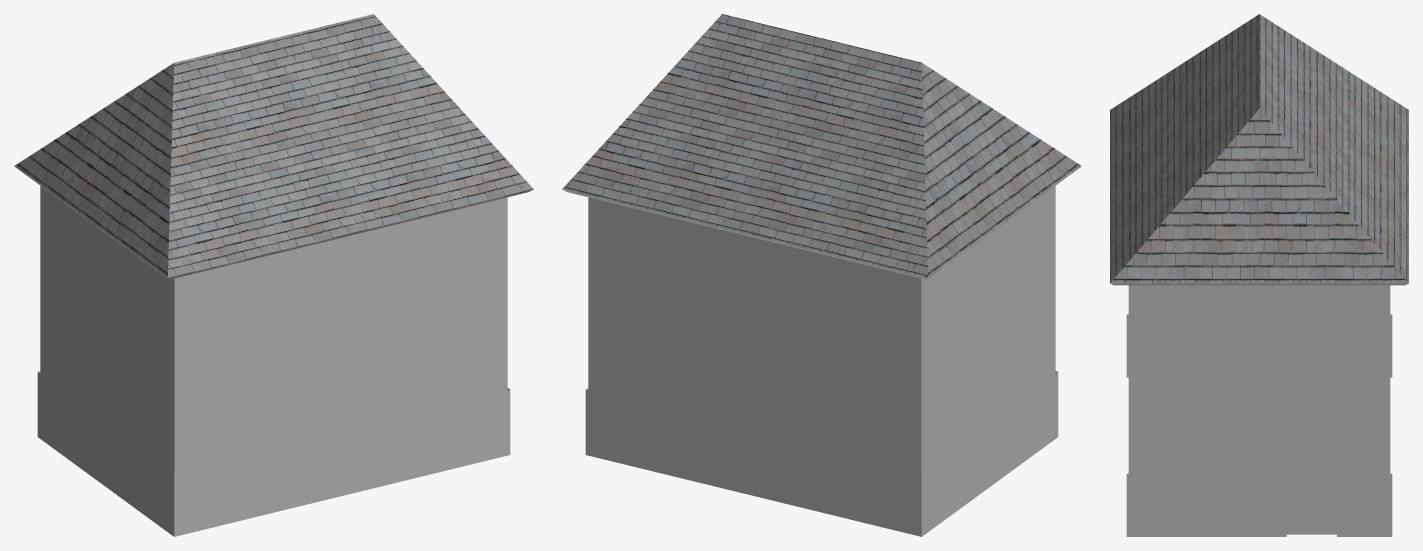
File: half_timbered_2.obj
3 views of the same model, side by side, from view 1: azimuth 30°, elevation 25°; view 2: azimuth 150°, elevation 25°; view 3: azimuth 270°, elevation 25° (orthographic). The views are drawn at different scales.
Parts seen in each view (by area): view 1: HalfTimbered2; view 2: HalfTimbered2; view 3: HalfTimbered2.
Boxes of the visible parts, x1=… form: HalfTimbered2: x1=14, y1=14, x2=533, y2=536; HalfTimbered2: x1=562, y1=14, x2=1081, y2=536; HalfTimbered2: x1=1110, y1=14, x2=1408, y2=536.
Size of the model in its own units: 11 by 11.7 by 8.
